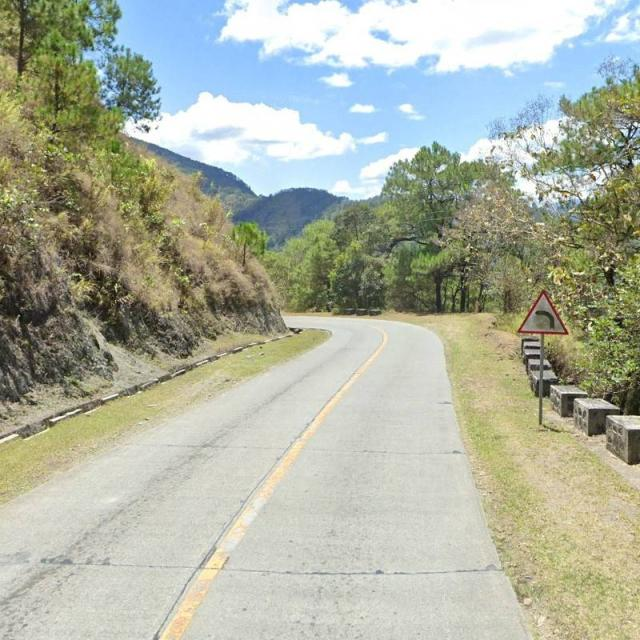warn_left_curve: (516, 290, 569, 334)
